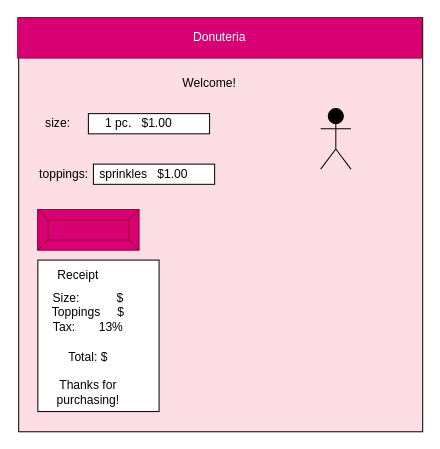
Some shapes in this 440 by 449 pixel diagram are drawn without their labels. Each missing label, with the centre of its shape:
"Actor" belongs at (x=335, y=138).
"Order" belongs at (x=88, y=229).
